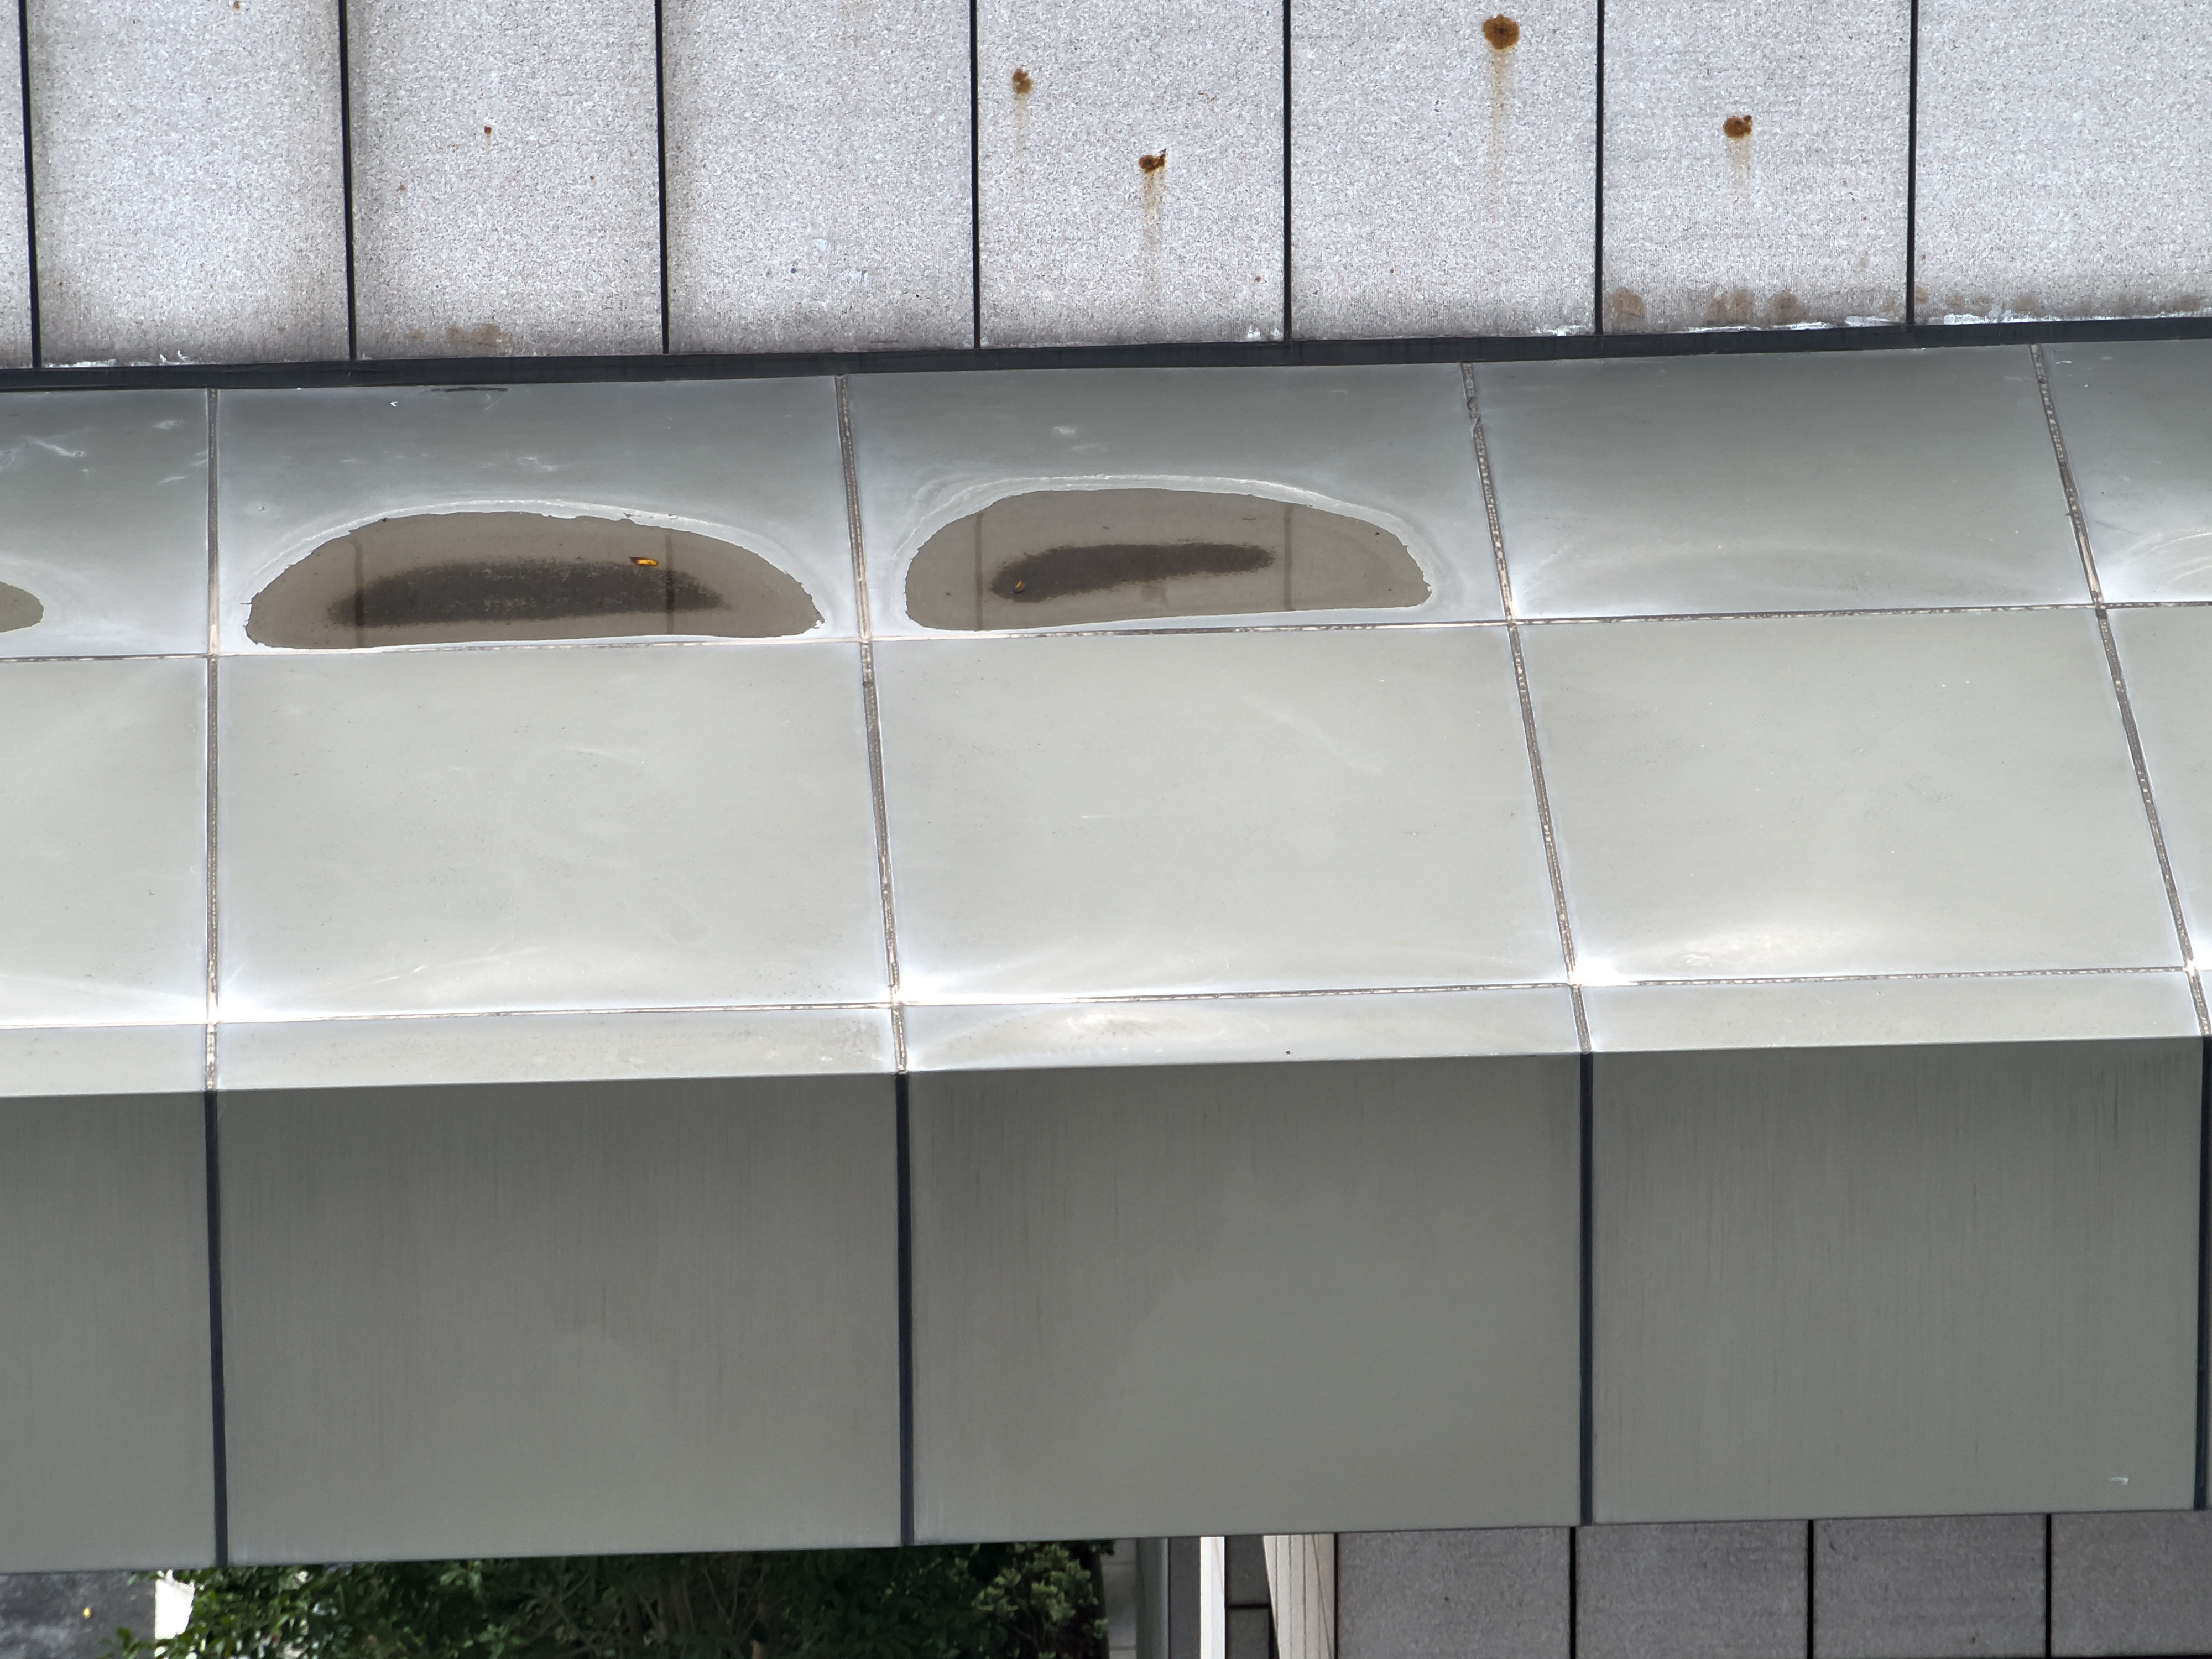spalling: (1677, 317, 1890, 336), (37, 349, 204, 371), (1946, 310, 2205, 324), (1242, 324, 1282, 345), (1538, 326, 1581, 336)
spot: (1482, 16, 1519, 45), (1141, 146, 1167, 173), (1717, 118, 1754, 136), (1014, 70, 1031, 96), (481, 125, 493, 134)
